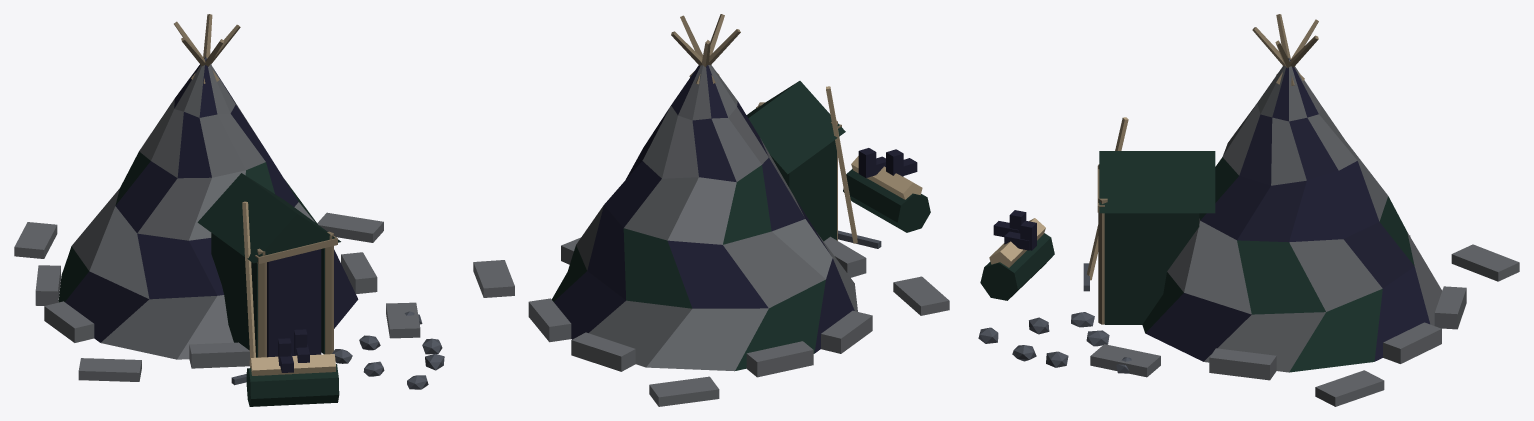
The model's file is collier_hut_cold.glb.
3 views of the same model, side by side, from view 1: azimuth 30°, elevation 25°; view 2: azimuth 150°, elevation 25°; view 3: azimuth 270°, elevation 25° (orthographic). The views are drawn at different scales.
Visible parts, largest first — view 1: pine_d50, pine_d55, silverfog_d50, ink, driftwood_d35, driftwood_d10, slate_d30; view 2: pine_d50, silverfog_d50, pine_d55, driftwood_d10, driftwood_d35, ink; view 3: pine_d50, pine_d55, silverfog_d50, driftwood_d35, slate_d30, driftwood_d10, ink.
Part boxes in pixels (x1=…): pine_d50: x1=58, y1=56, x2=358, y2=359; pine_d55: x1=197, y1=173, x2=340, y2=406; silverfog_d50: x1=14, y1=212, x2=420, y2=381; ink: x1=267, y1=249, x2=321, y2=372; driftwood_d35: x1=174, y1=14, x2=337, y2=357; driftwood_d10: x1=242, y1=201, x2=335, y2=375; slate_d30: x1=231, y1=311, x2=444, y2=389; pine_d50: x1=551, y1=65, x2=857, y2=371; silverfog_d50: x1=473, y1=236, x2=949, y2=406; pine_d55: x1=746, y1=81, x2=930, y2=241; driftwood_d10: x1=826, y1=86, x2=922, y2=243; driftwood_d35: x1=671, y1=14, x2=841, y2=240; ink: x1=858, y1=148, x2=917, y2=177; pine_d50: x1=1142, y1=58, x2=1441, y2=372; pine_d55: x1=980, y1=151, x2=1215, y2=324; silverfog_d50: x1=1090, y1=235, x2=1519, y2=406; driftwood_d35: x1=1097, y1=14, x2=1318, y2=324; slate_d30: x1=978, y1=263, x2=1131, y2=373; driftwood_d10: x1=989, y1=117, x2=1128, y2=280; ink: x1=993, y1=210, x2=1036, y2=250.
Size of the model in its own units: 4.33 by 2.96 by 5.13.
